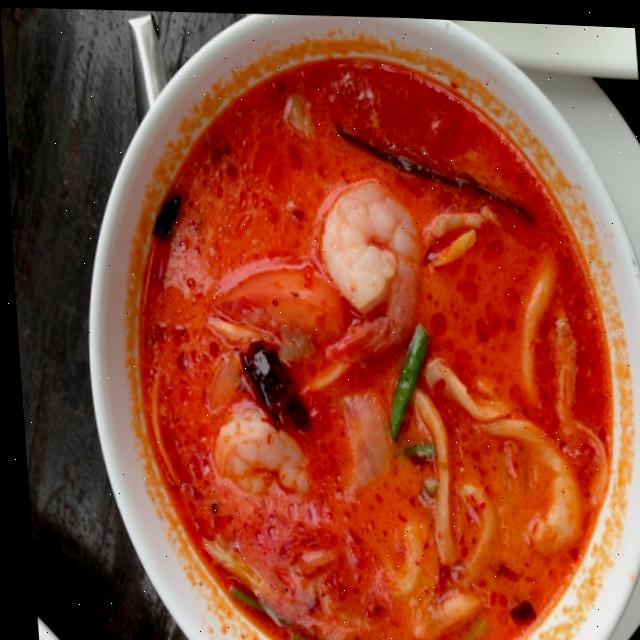汤锅炖物: (94, 19, 640, 640)
